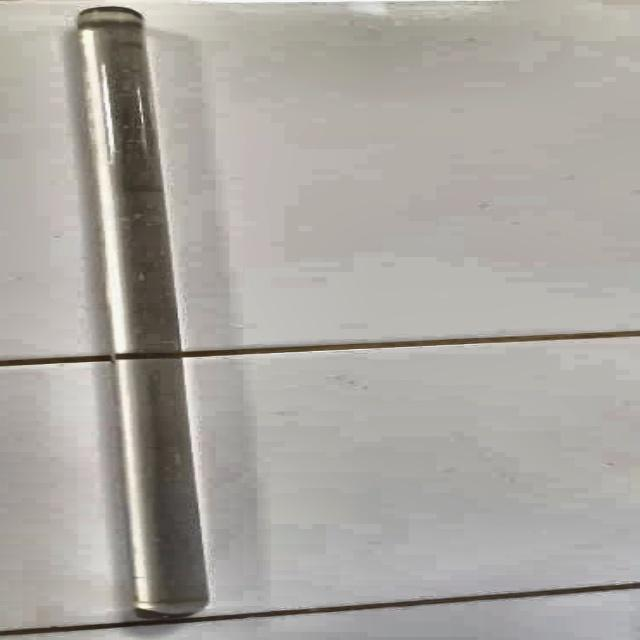Stirrer: (63, 3, 208, 630)
